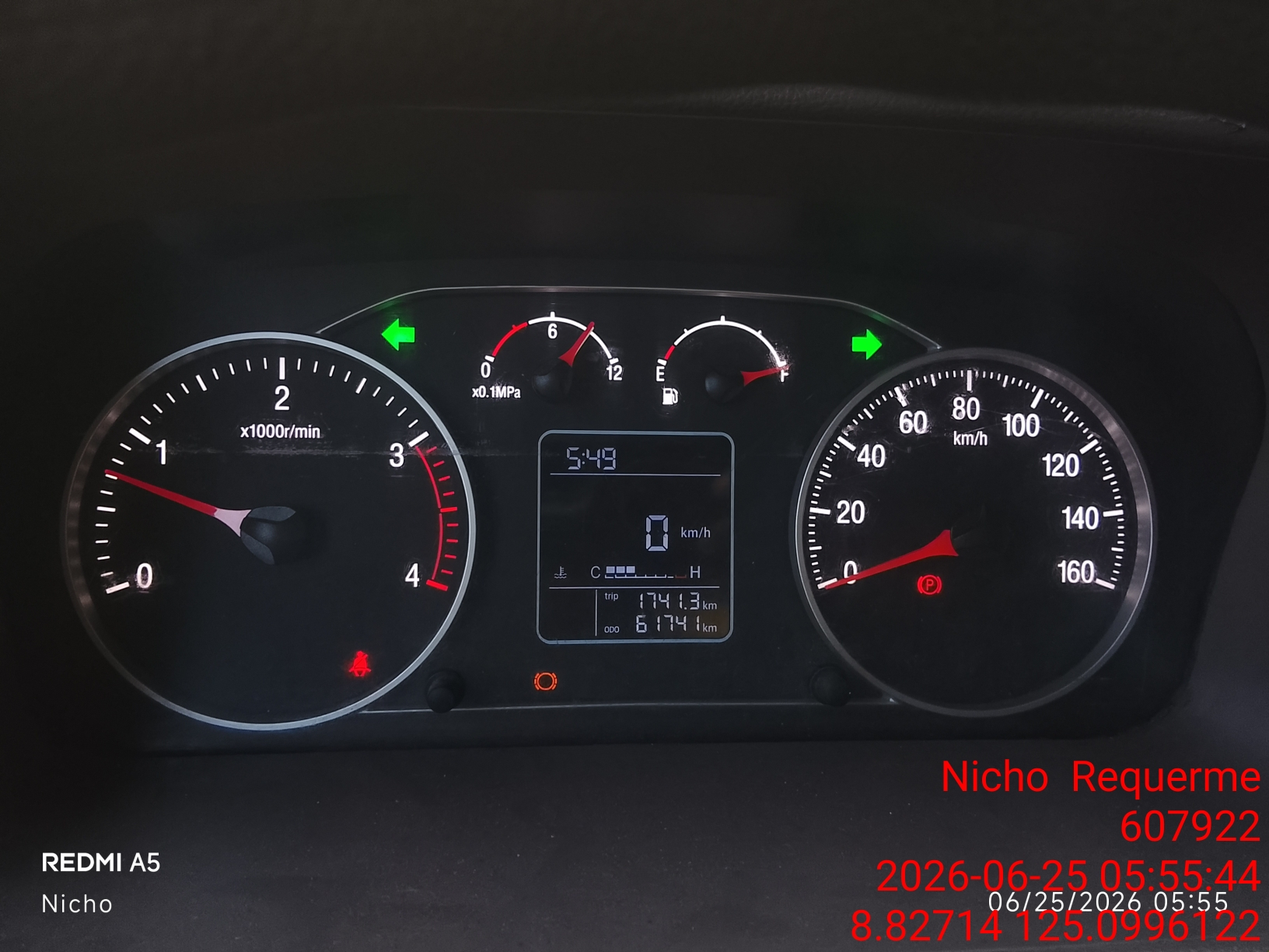oil_pose: (139, 90, 786, 385)
